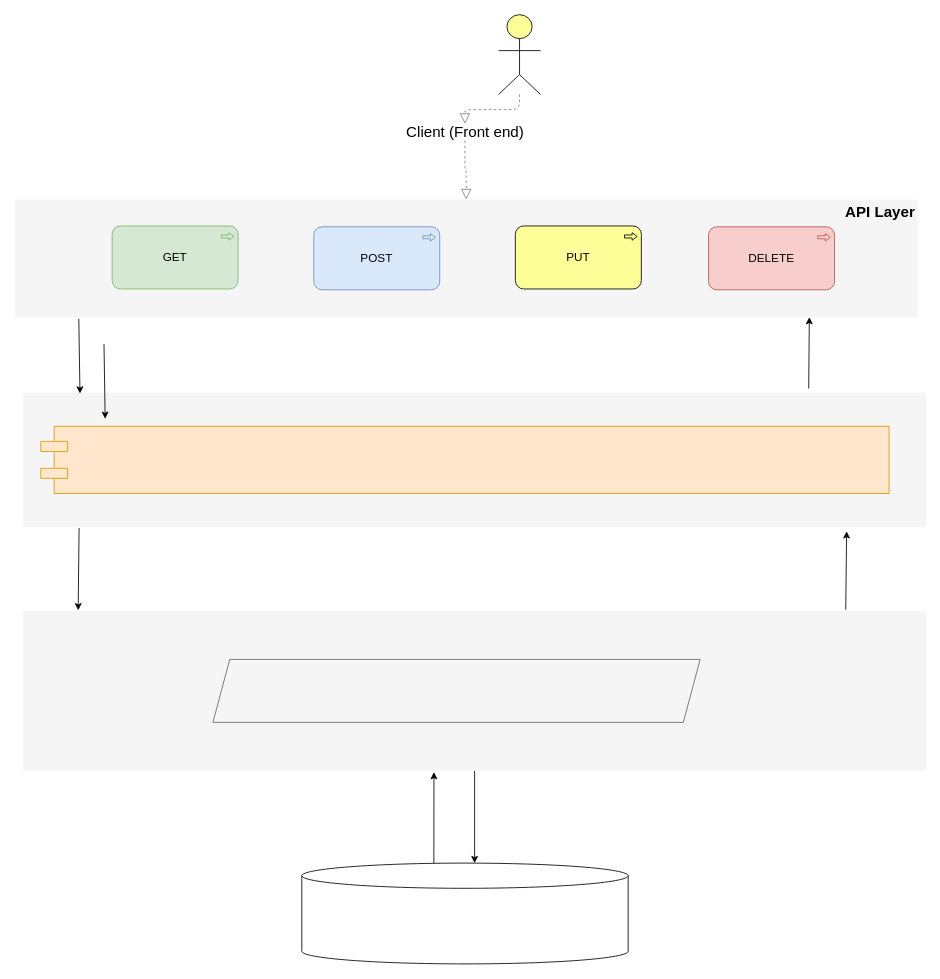
This 940x979 diagram has some shape labels left out. The box of each missing label's shape, as (x1, y1, x2, y2) in pixels:
Bussines logic, Service Layer/Magic: (40, 425, 889, 494)
Data acces Layer: (212, 659, 700, 722)
